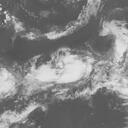cyclone: (28, 47, 93, 85)
